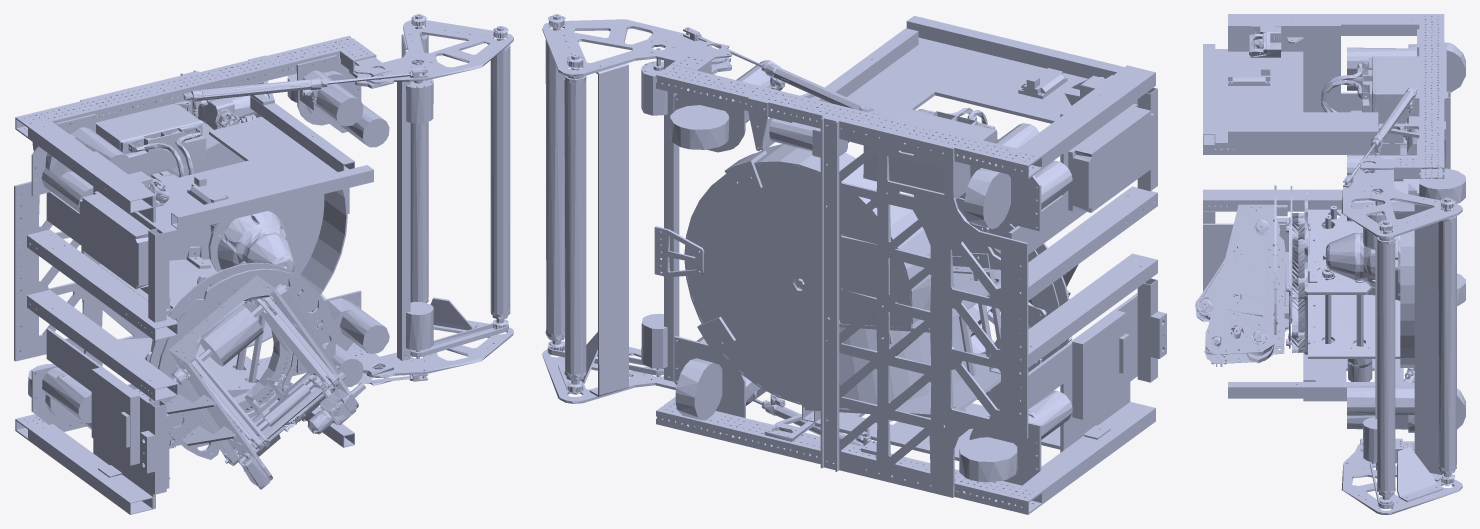
3 views of the same model, side by side, from view 1: azimuth 30°, elevation 25°; view 2: azimuth 150°, elevation 25°; view 3: azimuth 270°, elevation 25° (orthographic). The views are drawn at different scales.
Parts seen in each view (by area): view 1: main_mesh, c0_mesh; view 2: main_mesh, c0_mesh; view 3: main_mesh, c0_mesh.
Boxes of the visible parts, x1,y1,x2,y2 form: main_mesh: [14, 35, 427, 514]; c0_mesh: [365, 14, 513, 377]; main_mesh: [654, 15, 1166, 514]; c0_mesh: [542, 14, 727, 403]; main_mesh: [1195, 14, 1465, 463]; c0_mesh: [1341, 165, 1462, 514].
Size of the model in its own units: 1.03 by 0.6638 by 0.5484.
